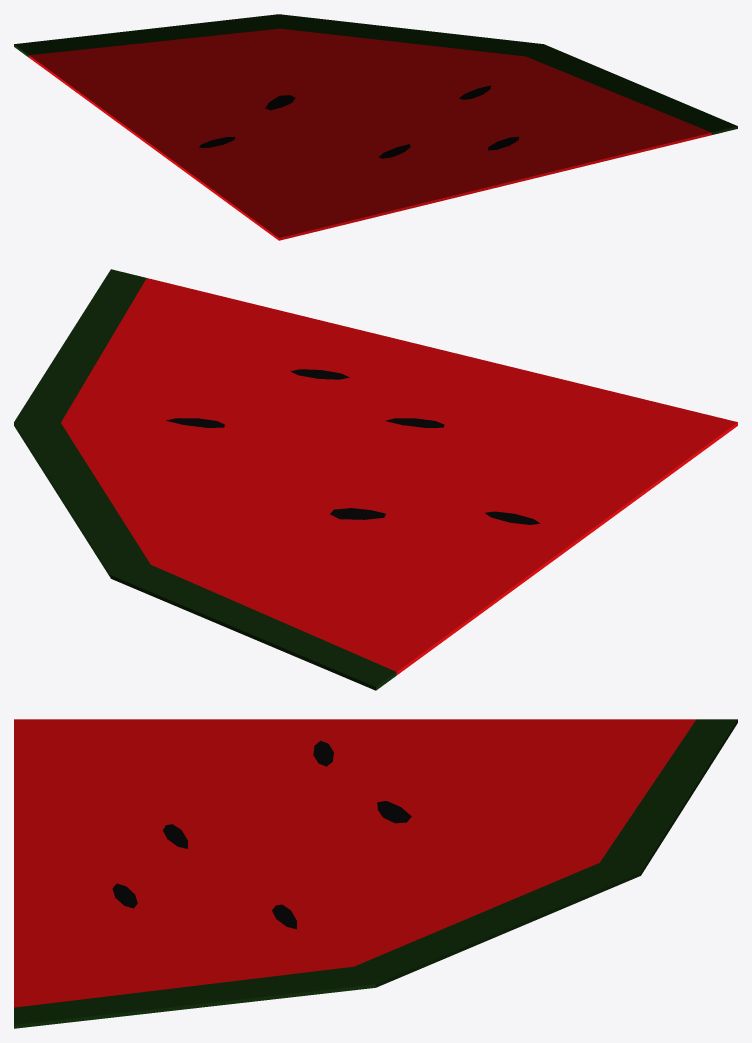
Rendered from Watermelon Style Rug.fbx.
The picture shows the model from 3 angles, top to bottom: view 1: azimuth 30°, elevation 25°; view 2: azimuth 150°, elevation 25°; view 3: azimuth 270°, elevation 25°; orthographic projection. The views are drawn at different scales.
Parts seen in each view (by area): view 1: Node 0; view 2: Node 0; view 3: Node 0.
Part boxes in pixels (box(x1,y1,x2,y2)): Node 0: box(14, 14, 737, 240); Node 0: box(14, 269, 737, 690); Node 0: box(14, 719, 737, 1028).
Size of the model in its own units: 1.29 by 0.00716 by 1.29.
